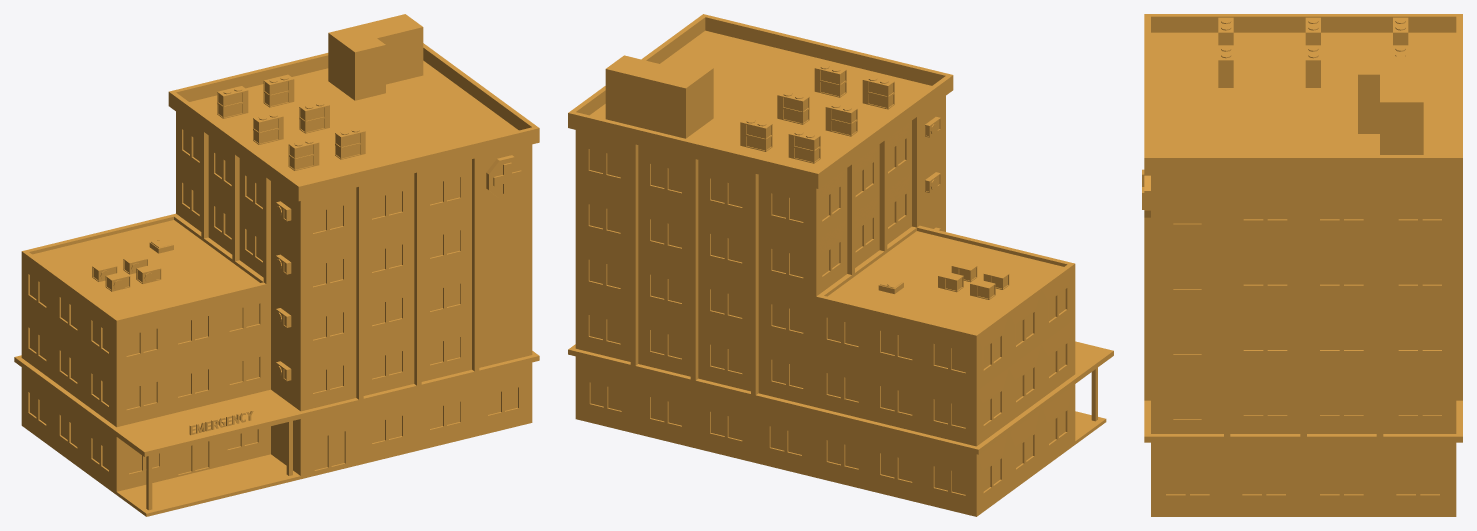
The model's file is Hospital.fbx.
3 renders of one model, left to right at view 1: azimuth 30°, elevation 25°; view 2: azimuth 150°, elevation 25°; view 3: azimuth 270°, elevation 25°, orthographic. The views are drawn at different scales.
Visible parts, largest first — view 1: Hospital; view 2: Hospital; view 3: Hospital.
Boxes of the visible parts, left/top/right/bottom form: Hospital: left=14, top=14, right=539, bottom=516; Hospital: left=568, top=14, right=1113, bottom=516; Hospital: left=1142, top=14, right=1462, bottom=516.
Bounding box in the file's own units: 25.6 × 20.5 × 14.7.
